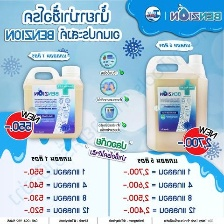cleaning_solution: (145, 51, 213, 156), (20, 63, 87, 142)
